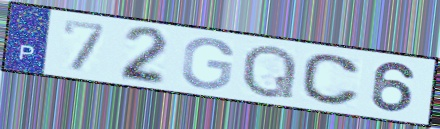2: (119, 24, 170, 88)
6: (369, 61, 418, 115)
7: (60, 17, 107, 74)
C: (299, 52, 363, 108)
G: (178, 35, 236, 91)
Q: (238, 43, 300, 101)
